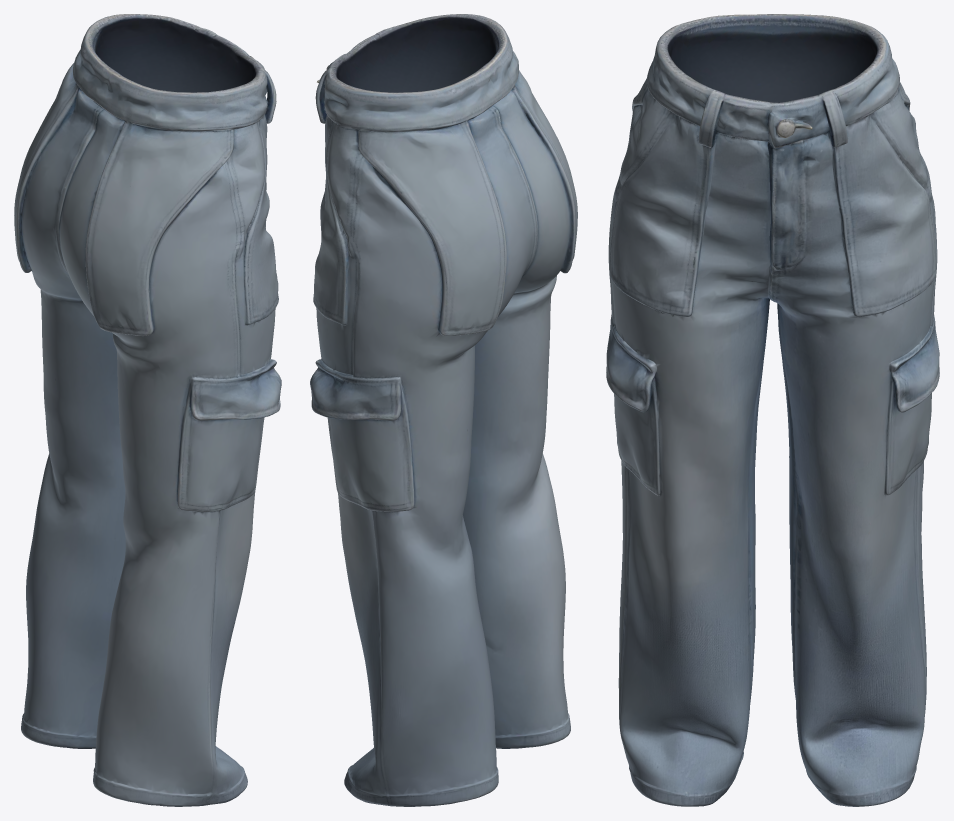
Rendered from cargo_3d.glb.
The picture shows the model from 3 angles, left to right: view 1: azimuth 30°, elevation 25°; view 2: azimuth 150°, elevation 25°; view 3: azimuth 270°, elevation 25°; orthographic projection. The views are drawn at different scales.
Visible parts, largest first — view 1: tripo_node_de2f6bca-cdbe-4a1c-9971-956d8c25770d; view 2: tripo_node_de2f6bca-cdbe-4a1c-9971-956d8c25770d; view 3: tripo_node_de2f6bca-cdbe-4a1c-9971-956d8c25770d.
Boxes of the visible parts, box(x1,y1,x2,y2) form: tripo_node_de2f6bca-cdbe-4a1c-9971-956d8c25770d: box(14, 14, 281, 806); tripo_node_de2f6bca-cdbe-4a1c-9971-956d8c25770d: box(310, 14, 577, 806); tripo_node_de2f6bca-cdbe-4a1c-9971-956d8c25770d: box(606, 14, 939, 806).
Bounding box in the file's own units: 0.3081 × 1 × 0.4011.
1 material, 1 textured.
